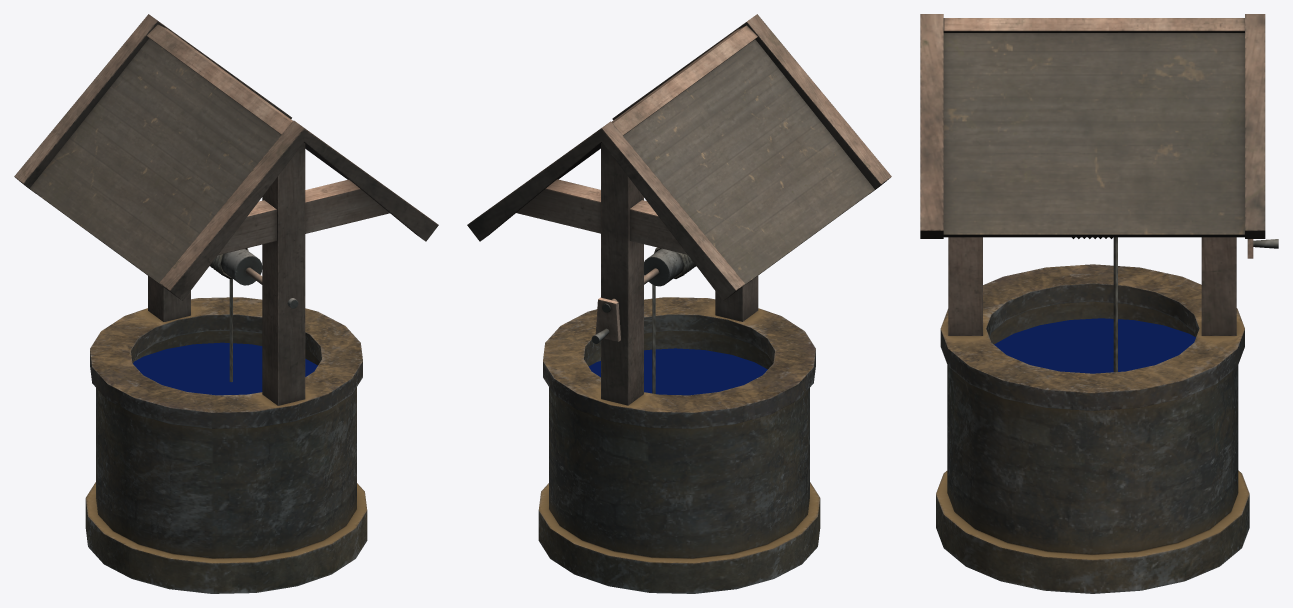
The model's file is WellWithWaterSurface.dae.
The picture shows the model from 3 angles, left to right: view 1: azimuth 30°, elevation 25°; view 2: azimuth 150°, elevation 25°; view 3: azimuth 270°, elevation 25°; orthographic projection. The views are drawn at different scales.
Visible parts, largest first — view 1: WellFBXASC058polySurface5014, pDisc1; view 2: WellFBXASC058polySurface5014, pDisc1; view 3: WellFBXASC058polySurface5014, pDisc1.
Boxes of the visible parts, x1=… form: WellFBXASC058polySurface5014: x1=14, y1=14, x2=438, y2=593; pDisc1: x1=133, y1=342, x2=317, y2=395; WellFBXASC058polySurface5014: x1=467, y1=14, x2=891, y2=593; pDisc1: x1=588, y1=348, x2=767, y2=395; WellFBXASC058polySurface5014: x1=920, y1=14, x2=1278, y2=593; pDisc1: x1=994, y1=318, x2=1195, y2=373.
Bounding box in the file's own units: 2.32 × 3.82 × 2.42.
